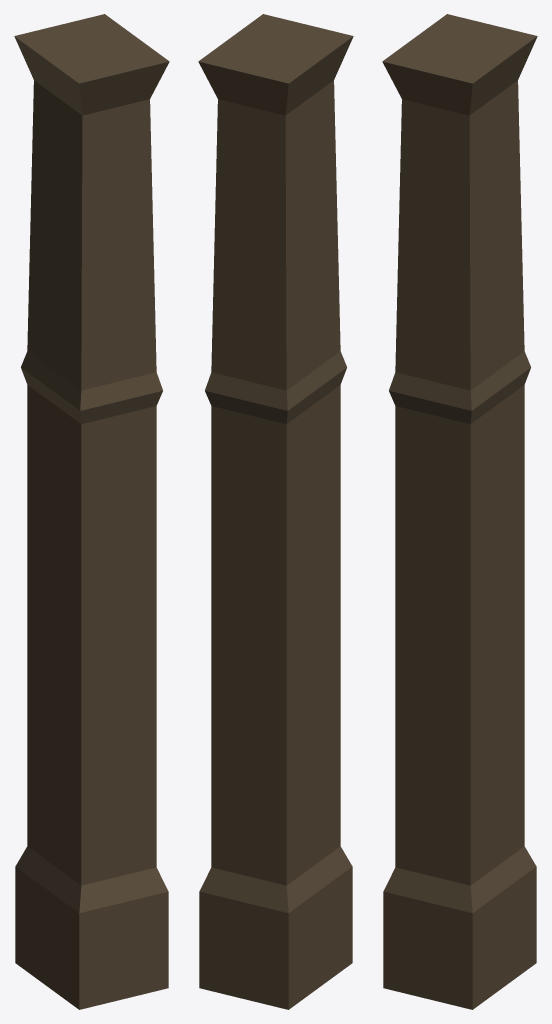
The model's file is Wall_Standard_Sep_2.obj.
3 renders of one model, left to right at view 1: azimuth 30°, elevation 25°; view 2: azimuth 150°, elevation 25°; view 3: azimuth 330°, elevation 25°, orthographic.
Parts seen in each view (by area): view 1: Wall_Standard_Sep_2; view 2: Wall_Standard_Sep_2; view 3: Wall_Standard_Sep_2.
Boxes of the visible parts, box(x1,y1,x2,y2) form: Wall_Standard_Sep_2: box(14, 14, 169, 1009); Wall_Standard_Sep_2: box(198, 14, 353, 1009); Wall_Standard_Sep_2: box(382, 14, 537, 1009).
Size of the model in its own units: 0.3089 by 3.02 by 0.3836.
